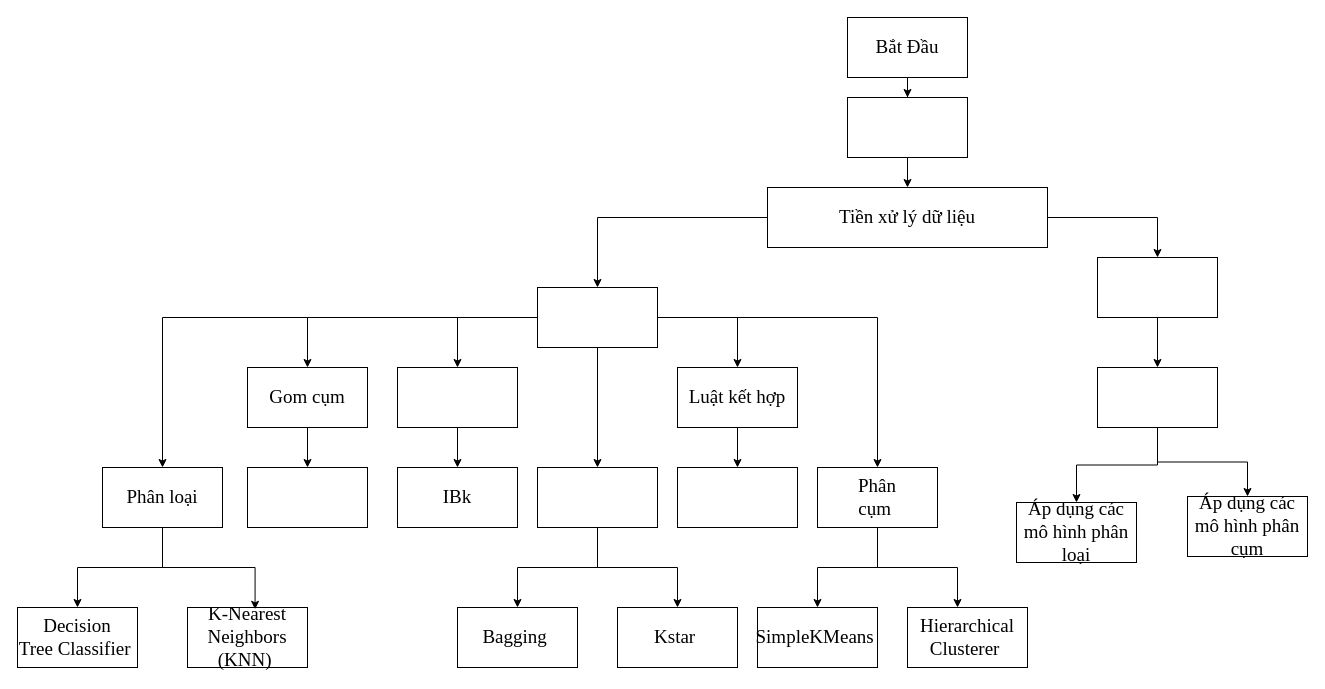
This 1325x689 diagram has some shape labels left out. Here are the shapes that lost their labels. From the top down, the box of each, then its label:
(846, 96, 968, 158): Load Dataset
(1096, 256, 1218, 318): Orange
(536, 286, 658, 348): Weka
(396, 366, 518, 428): Phân lớp
(1096, 366, 1218, 428): Tạo Workflow
(246, 466, 368, 528): K-Means Clustering
(536, 466, 658, 528): Tập hợp mô hình
(676, 466, 798, 528): Apriori
